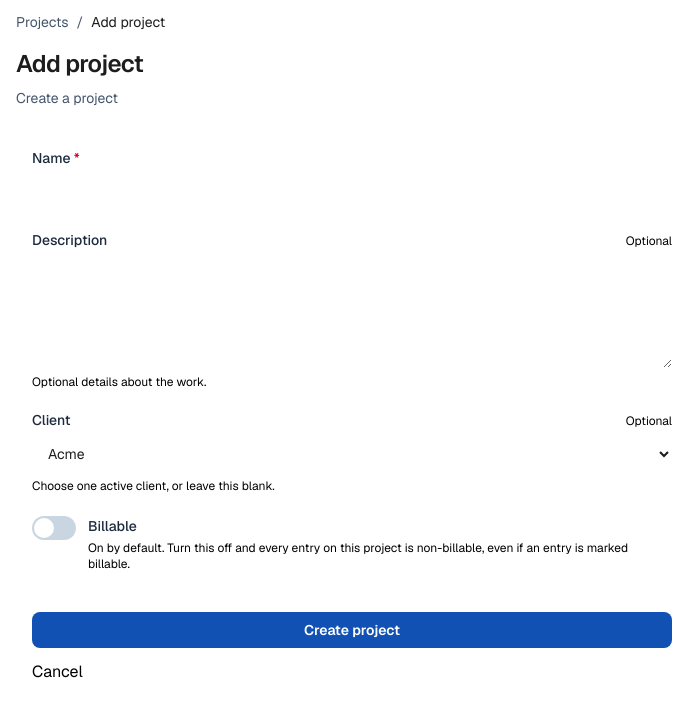
Test case: controlled selects after a failed save › keeps the project form's client when the name is blank
This screenshot has width=690, height=703.
Select "Acme" in the dropdown labelled "Client" at (352, 454), box [32,436,672,472]
Select "Acme" in the dropdown labelled "Client" at (352, 454), box [32,436,672,472]
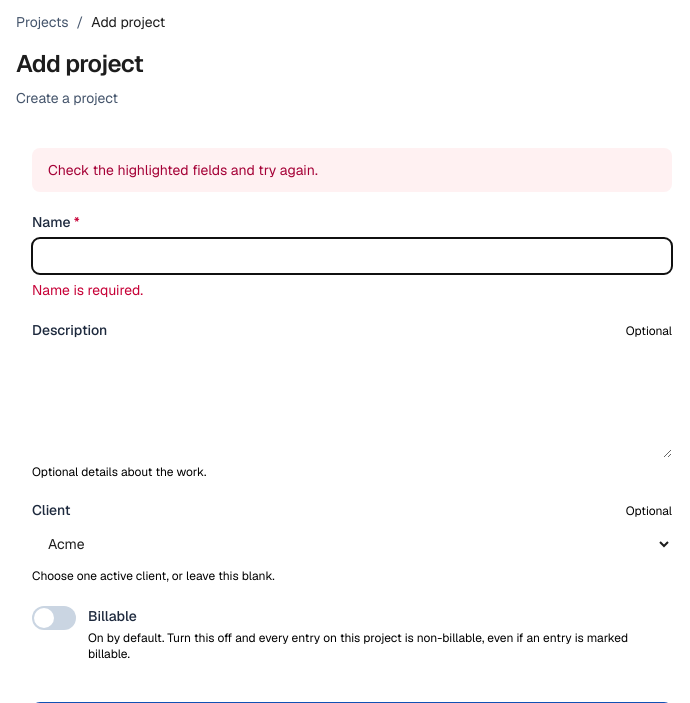
Result: the text "Name is required." is shown at [32,281,143,299]
